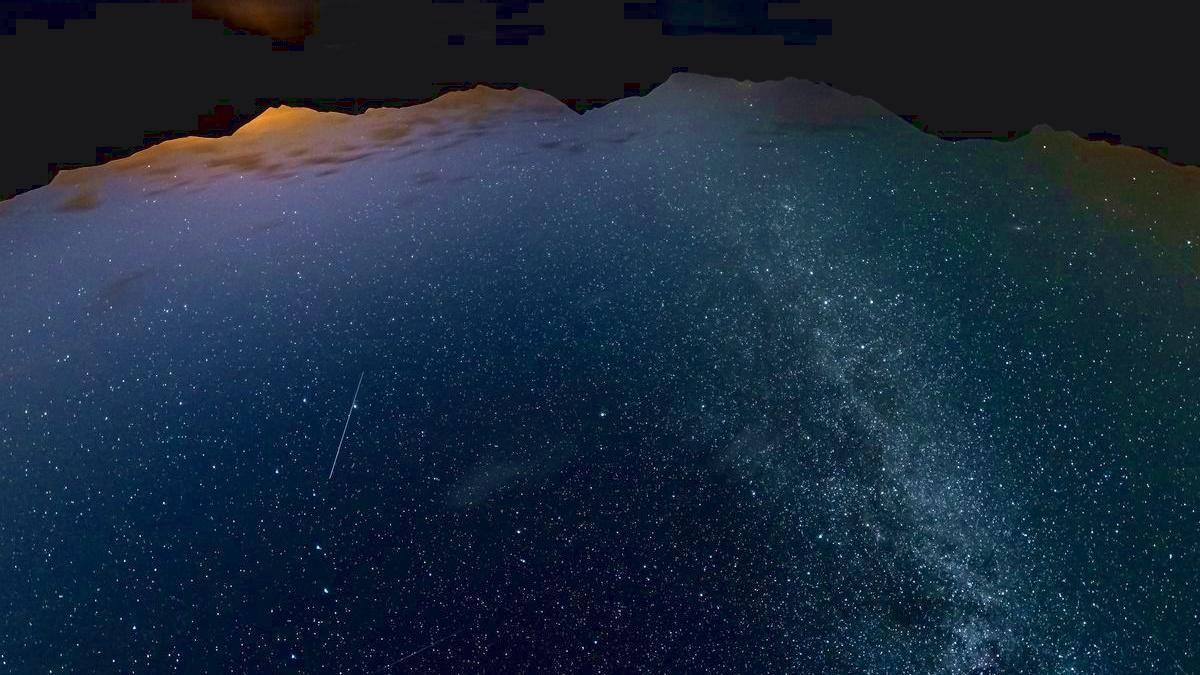meteorite: (306, 347, 366, 477)
